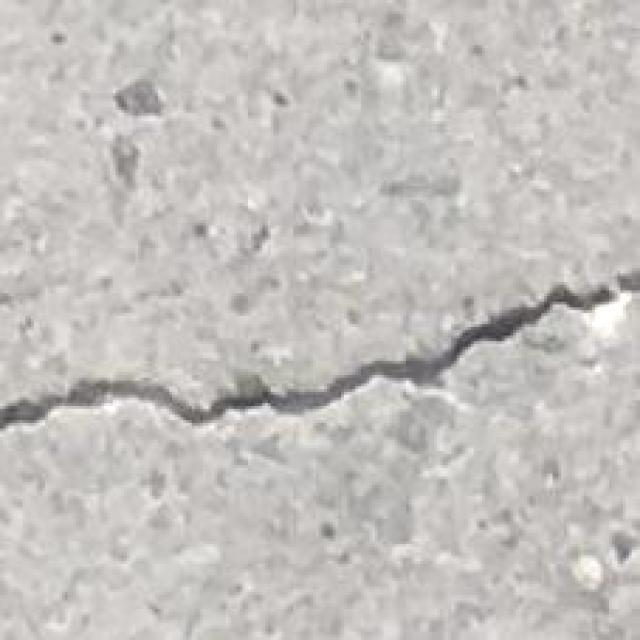crack: (1, 269, 637, 433)
